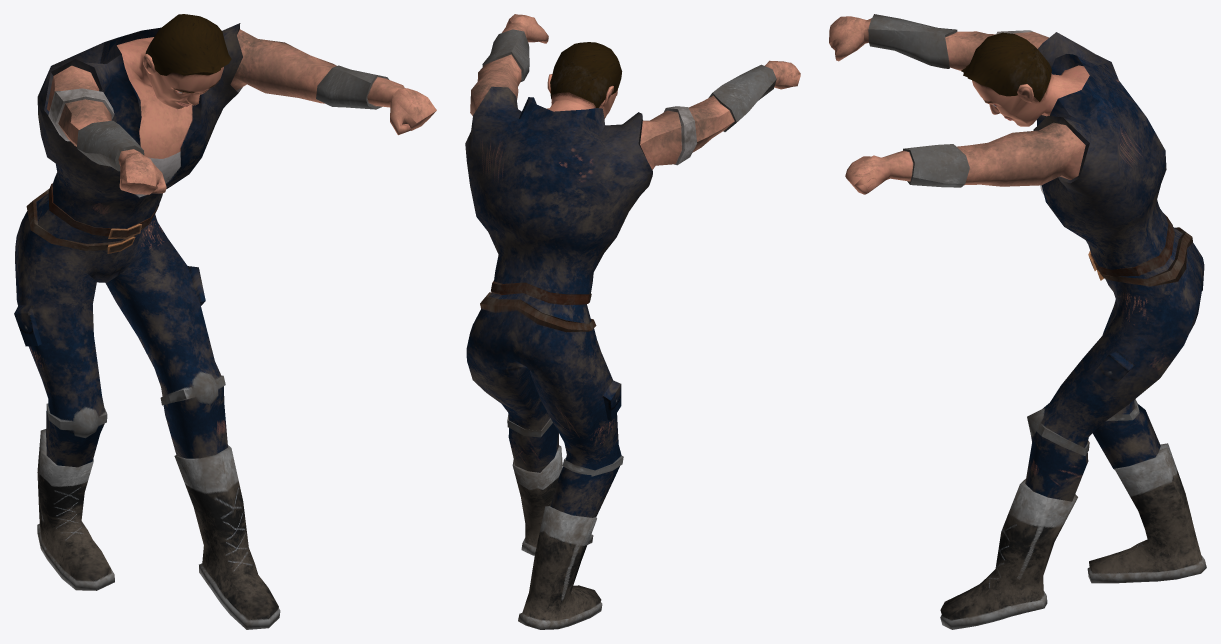
Rendered from Anim_ataque_d3_jugador.0045.obj.
3 views of the same model, side by side, from view 1: azimuth 30°, elevation 25°; view 2: azimuth 150°, elevation 25°; view 3: azimuth 270°, elevation 25° (orthographic). The views are drawn at different scales.
Parts seen in each view (by area): view 1: polySurface1; view 2: polySurface1; view 3: polySurface1.
Boxes of the visible parts, x1=… form: polySurface1: x1=14, y1=14, x2=436, y2=629; polySurface1: x1=465, y1=14, x2=800, y2=629; polySurface1: x1=829, y1=14, x2=1206, y2=629.
Bounding box in the file's own units: 4.9 × 8.64 × 5.21.
